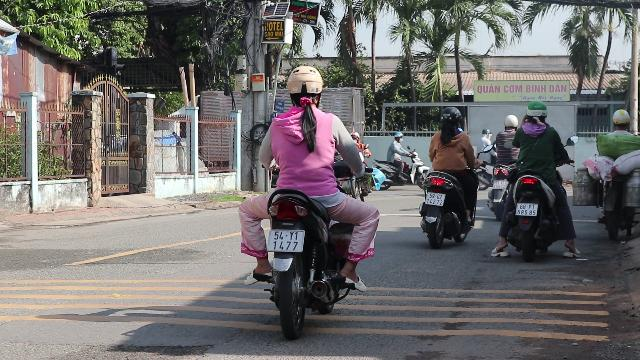helmet: (285, 64, 325, 106), (524, 99, 548, 123), (438, 106, 460, 130), (610, 109, 632, 129), (502, 115, 518, 130)
licenseplate: (268, 230, 304, 252), (516, 202, 538, 216), (426, 192, 446, 206), (494, 180, 506, 189)
motorcyclist: (234, 64, 382, 334), (496, 98, 576, 258), (416, 105, 480, 246), (595, 109, 639, 240), (488, 112, 520, 216)
